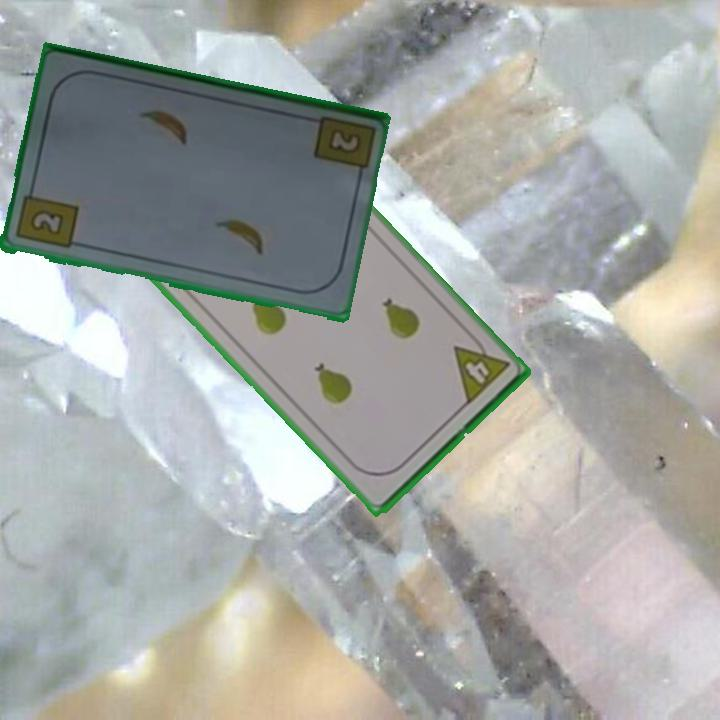2b: (12, 183, 81, 252), (324, 125, 361, 155)
4p: (449, 330, 512, 408)
